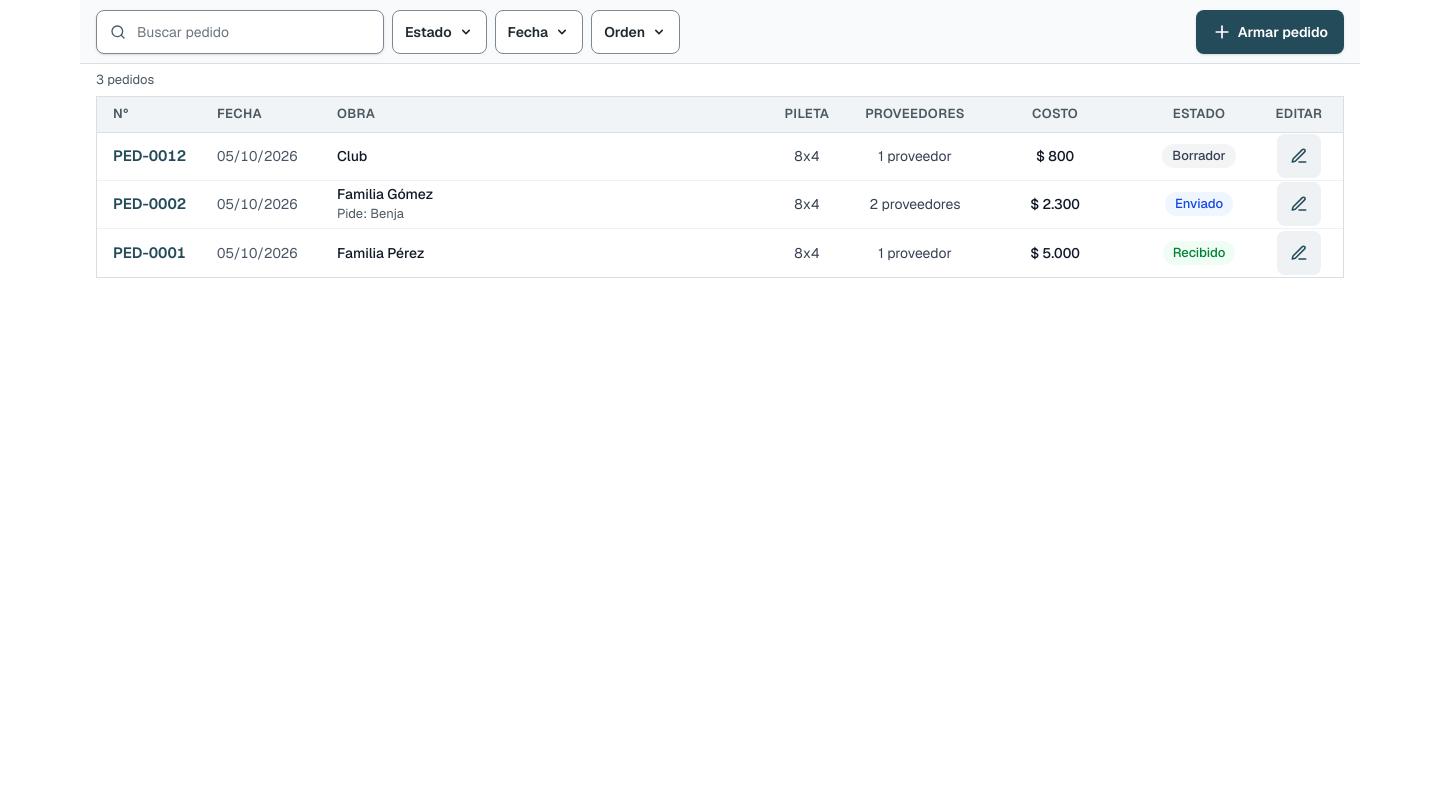
Test case: Pedidos › el detalle de un pedido › un pedido de un solo proveedor no ofrece 'uno por proveedor'
Check: the text "3 pedidos" is shown, box x1=96 y1=70 x2=154 y2=90
Step 1. Click the button named "Abrir PED-0001" → (1299, 252), box x1=1277 y1=230 x2=1321 y2=274
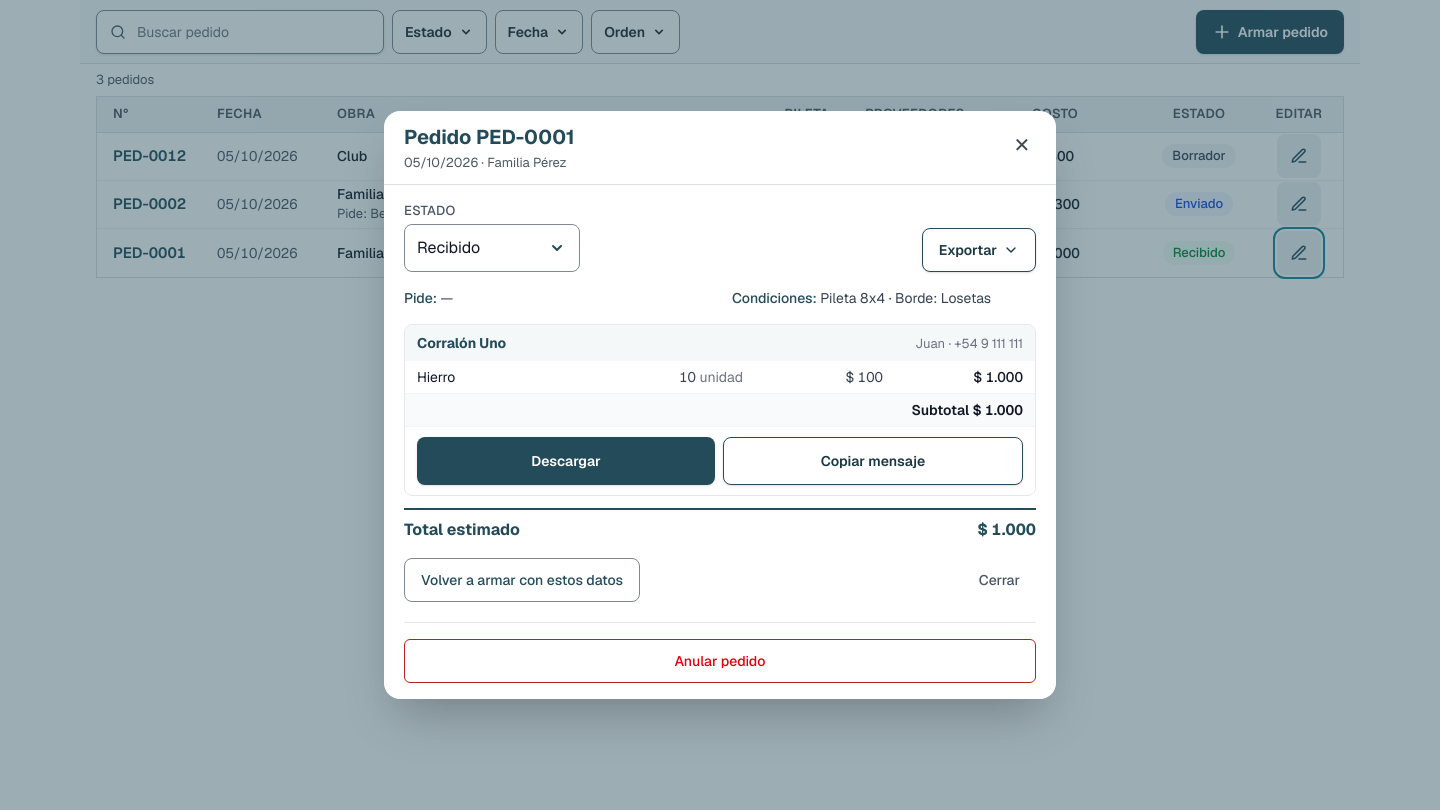
Step 2. Click the heading labelled "Exportar" → (979, 250), box x1=922 y1=228 x2=1036 y2=272
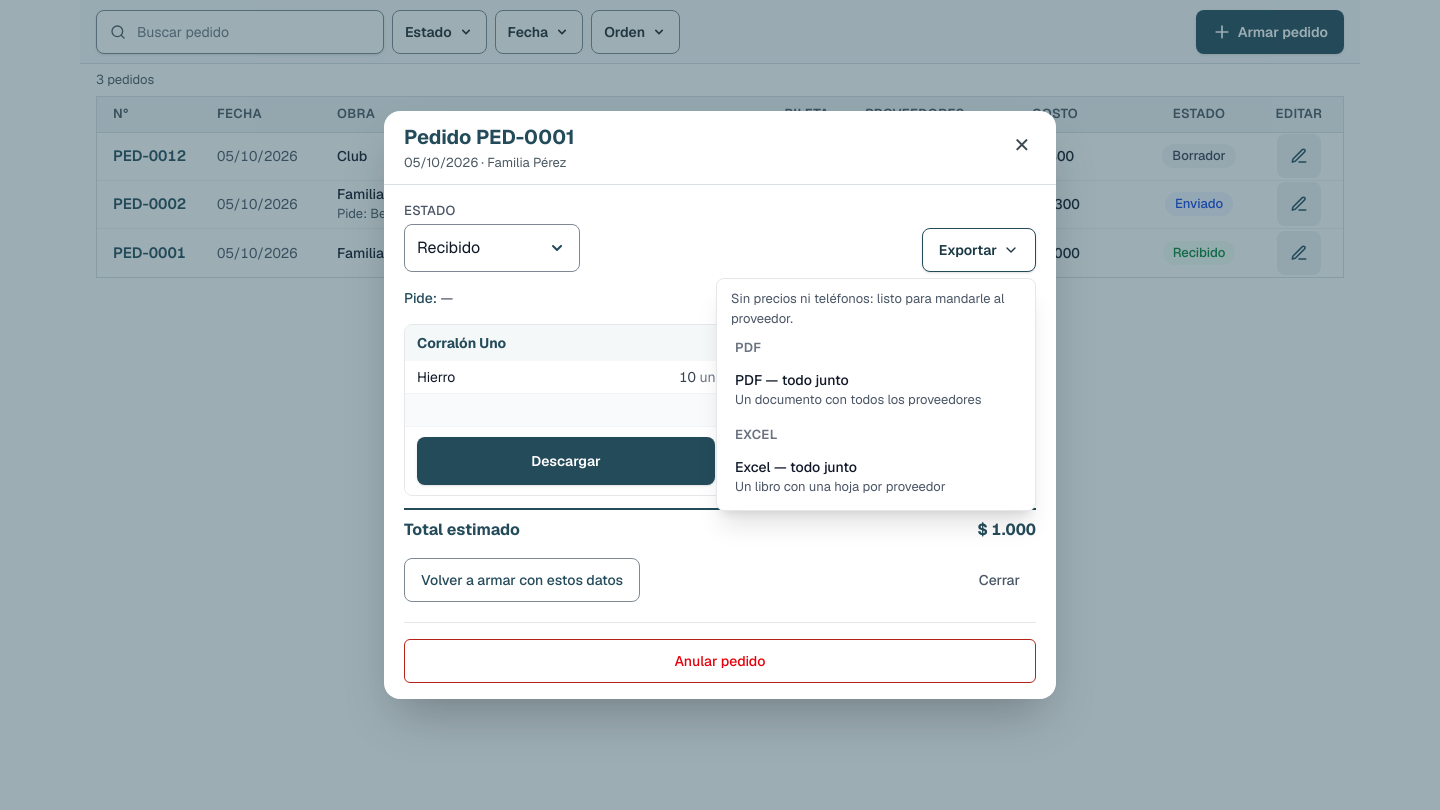
Check: the menu item "Excel — todo junto Un libro con una hoja por proveedor" is shown, box x1=723 y1=449 x2=1029 y2=504
